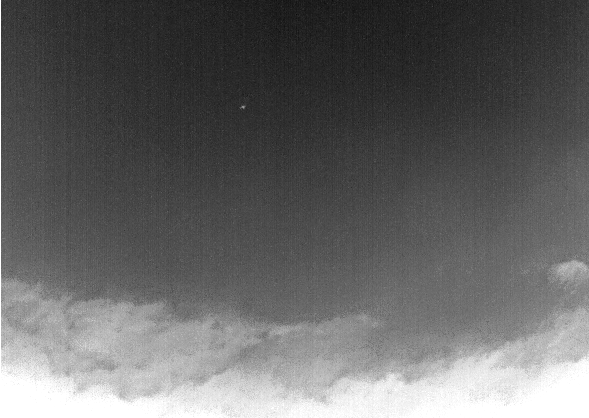dim target: (238, 104, 247, 110)
